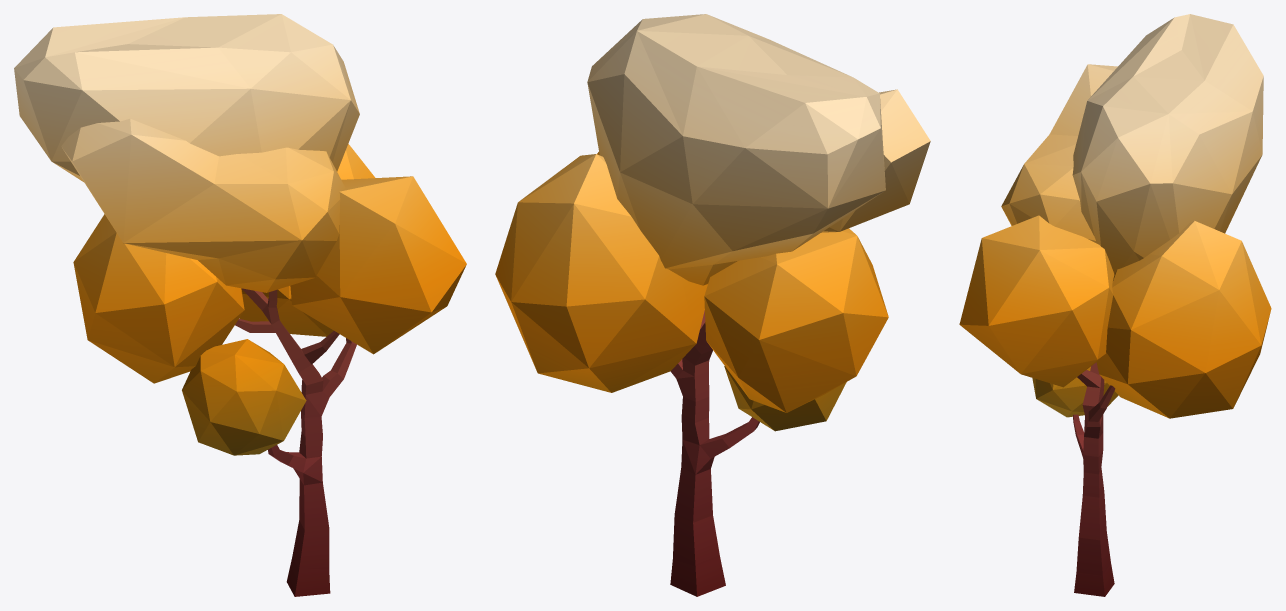
Rendered from Gradient_Tree_Windswept_orange.glb.
3 renders of one model, left to right at view 1: azimuth 30°, elevation 25°; view 2: azimuth 150°, elevation 25°; view 3: azimuth 270°, elevation 25°, orthographic. The views are drawn at different scales.
Parts seen in each view (by area): view 1: Windswept orange g; view 2: Windswept orange g; view 3: Windswept orange g.
Boxes of the visible parts, bbox=[...] form: Windswept orange g: bbox=[14, 14, 466, 596]; Windswept orange g: bbox=[495, 14, 930, 596]; Windswept orange g: bbox=[959, 14, 1271, 596].
Size of the model in its own units: 10.34 by 15.38 by 8.9.
1 material, 1 textured.
